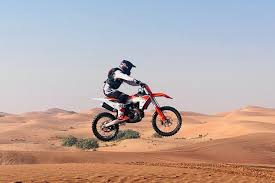motorcycle: (90, 82, 183, 141)
